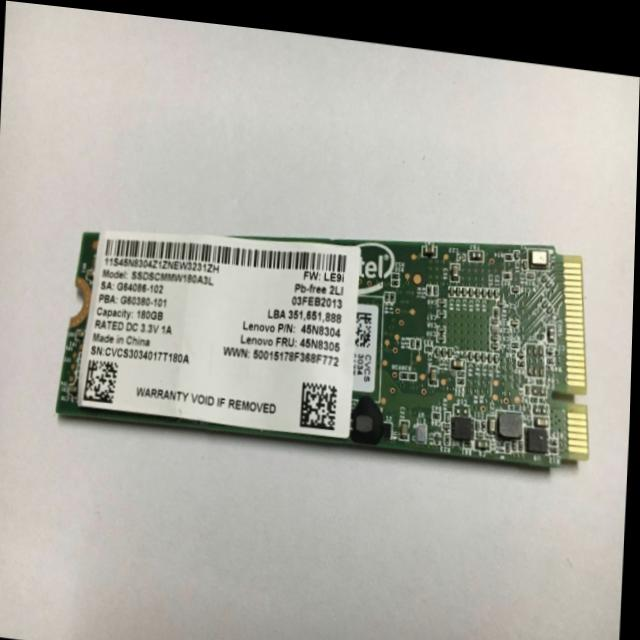datamatrix: (302, 374, 340, 424), (86, 356, 121, 402), (357, 303, 375, 340)
